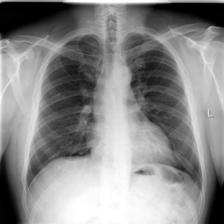normal: (21, 25, 207, 195)
